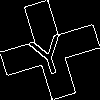Y: (25, 25, 70, 78)
